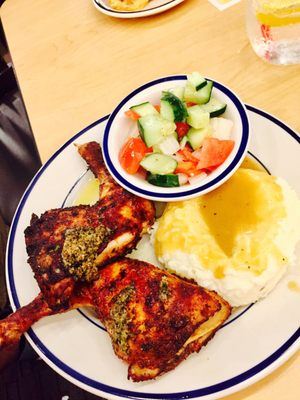pizza: (245, 0, 300, 67)
sushi: (104, 73, 251, 203)
